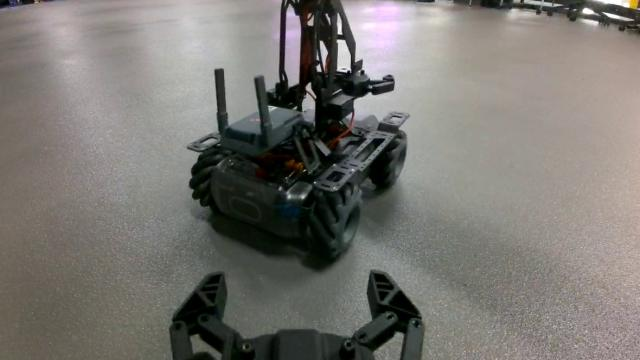robot: (186, 0, 412, 263)
